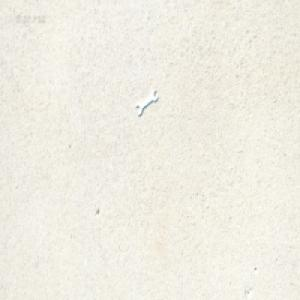Wrench: (135, 88, 158, 116)
